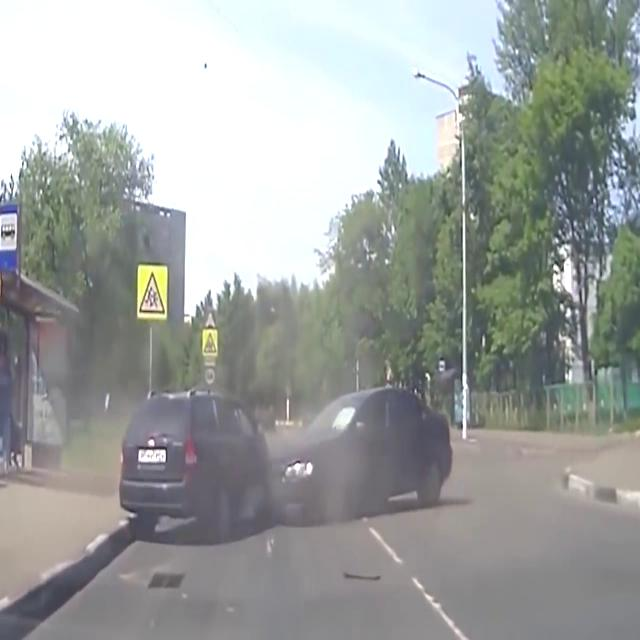accident: (117, 384, 457, 546)
